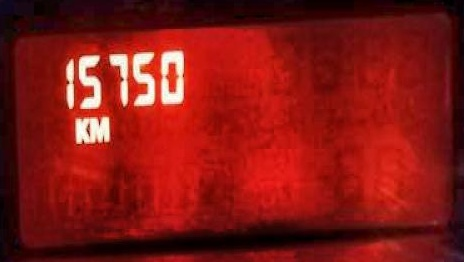0: (159, 47, 184, 105)
1: (64, 54, 74, 109)
5: (76, 52, 101, 108), (131, 50, 155, 105)
7: (106, 52, 127, 107)
X: (89, 114, 110, 144), (73, 115, 89, 142)
